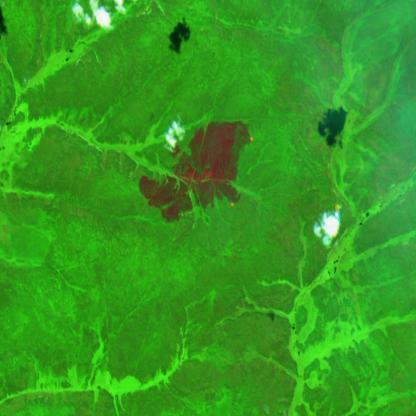fire: (221, 134, 255, 214), (313, 201, 340, 252)
